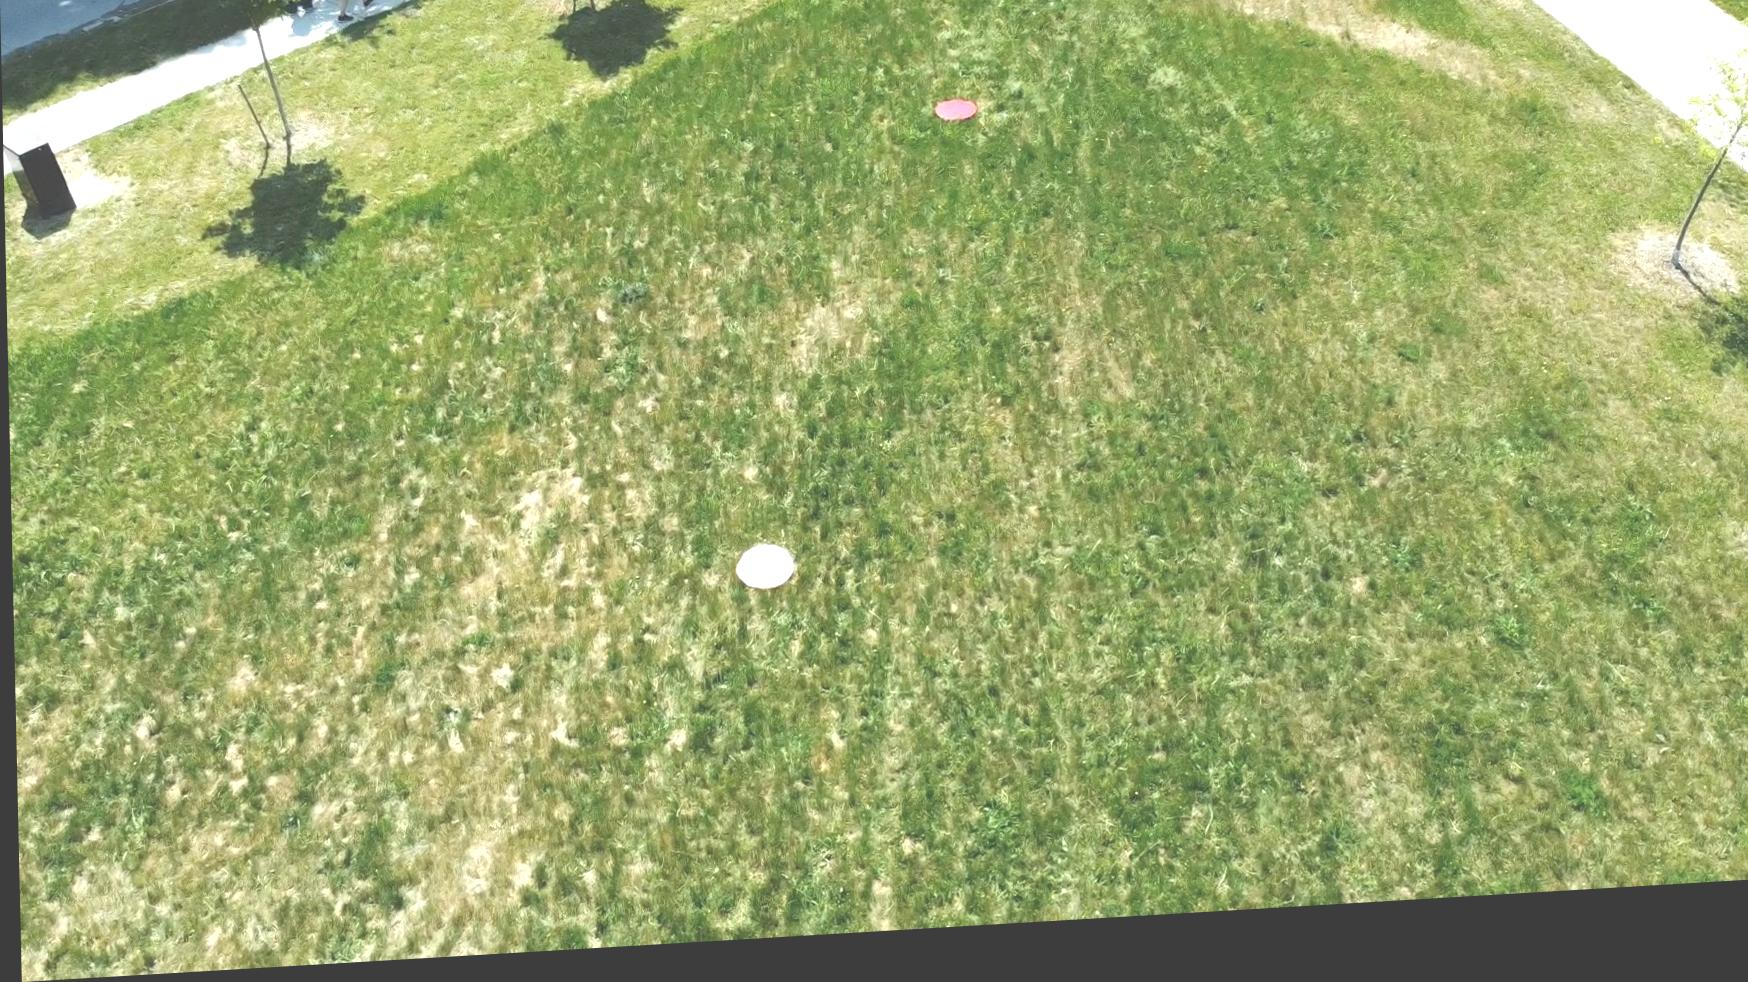Red: (932, 109, 980, 134)
Unknown: (731, 550, 794, 601)
